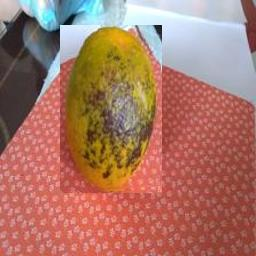Orange Semirotten: (60, 25, 162, 193)
